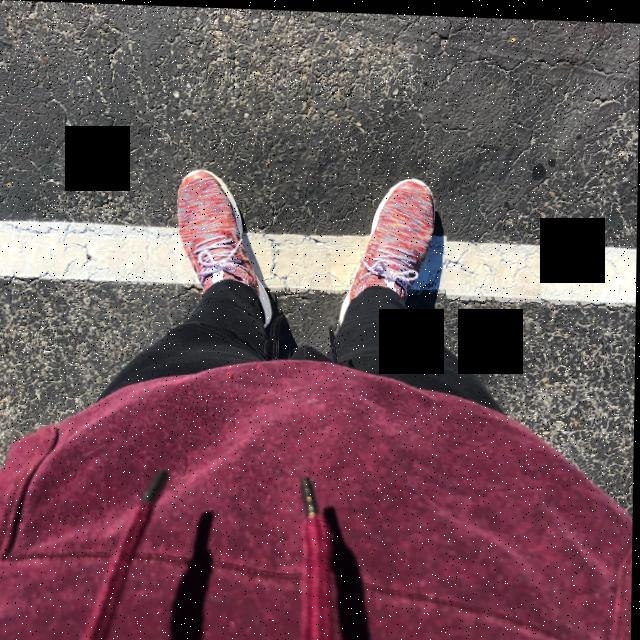shoe: (168, 160, 286, 338), (331, 164, 449, 337)
